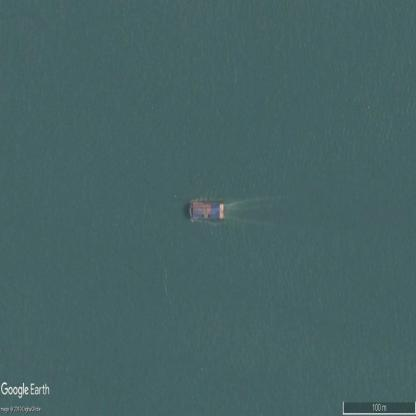ship: (188, 200, 224, 222)
